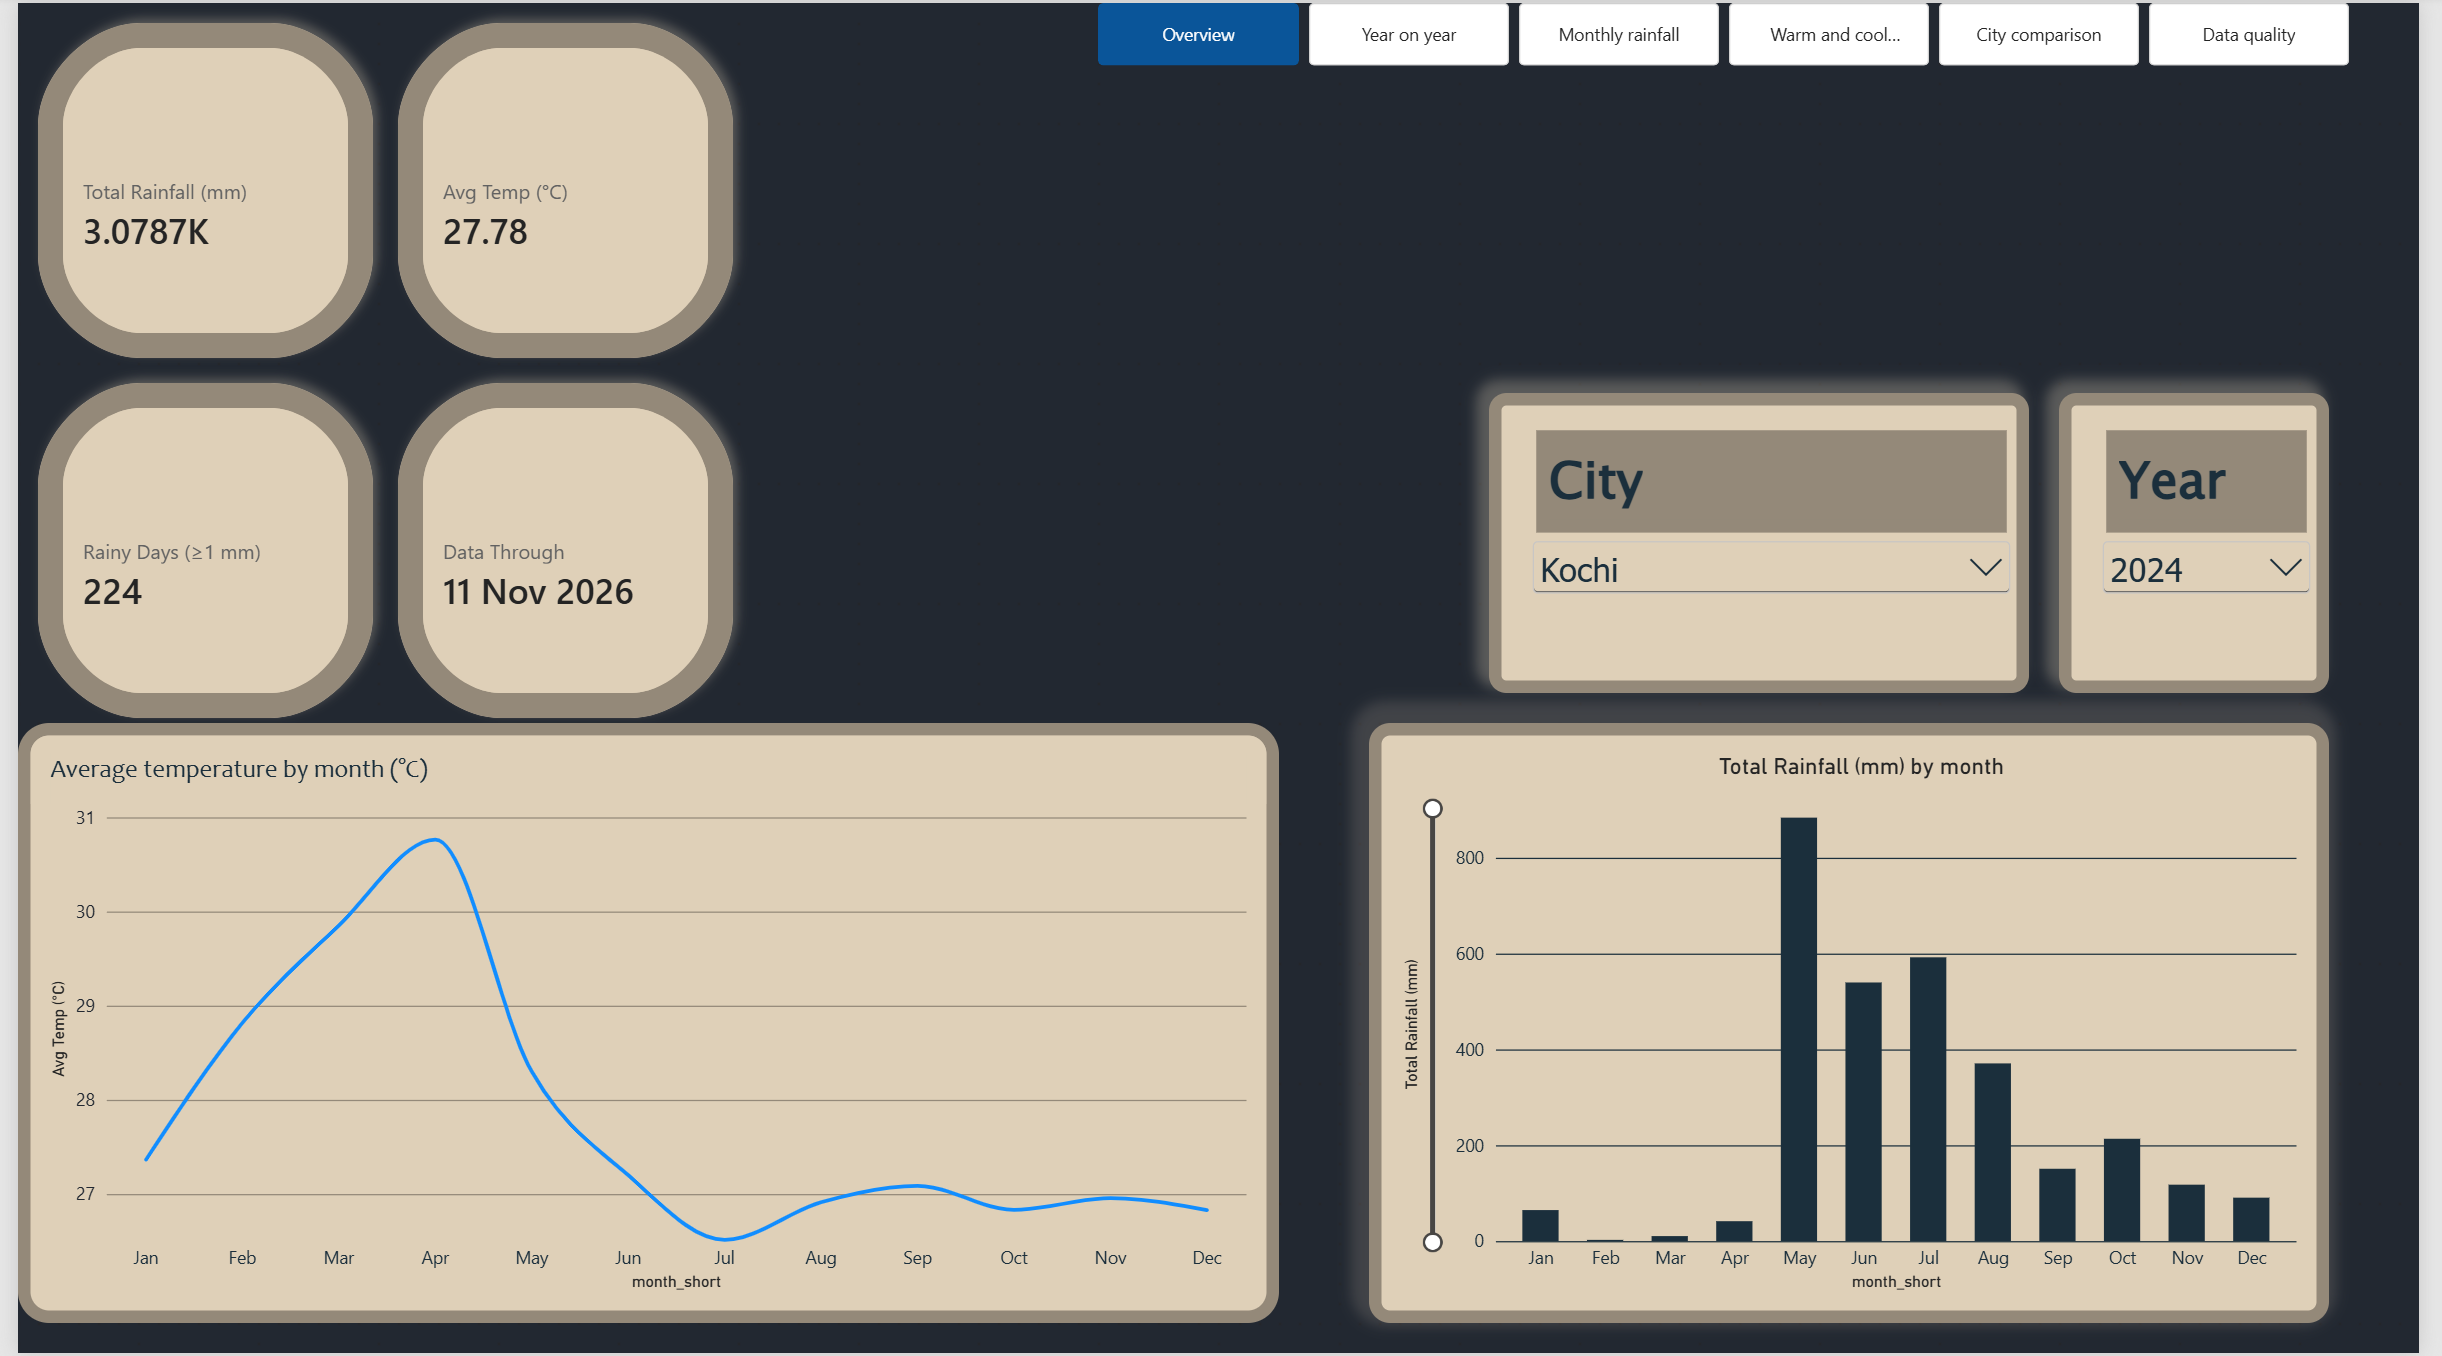

The dashboard page shown, as its layout file describes it:
{"tool":"powerbi","page":{"name":"Overview","canvas":[1920,1080],"ordinal":0},"visuals":[{"type":"slicer","fields":{"Values":["dim_date.year"]},"box":[1632,312,216,240],"z":0},{"type":"slicer","fields":{"Values":["dim_city.city"]},"box":[1176,312,432,240],"z":1000},{"type":"cardVisual","fields":{"Data":["fact_daily_weather.Total Rainfall (mm)"]},"box":[0,0,300,300],"z":2000},{"type":"cardVisual","fields":{"Data":["fact_daily_weather.Avg Temp (°C)"]},"box":[288,0,300,300],"z":3000},{"type":"cardVisual","fields":{"Data":["fact_daily_weather.Rainy Days (≥1 mm)"]},"box":[0,288,300,300],"z":4000},{"type":"cardVisual","fields":{"Data":["fact_daily_weather.Data Through"]},"box":[288,288,300,300],"z":5000},{"type":"lineChart","title":"Average temperature by month (°C)","fields":{"Category":["dim_date.month_short"],"Y":["fact_daily_weather.Avg Temp (°C)"]},"box":[0,576,1008,480],"z":6000},{"type":"clusteredColumnChart","title":"Total Rainfall (mm) by month","fields":{"Category":["dim_date.month_short"],"Y":["fact_daily_weather.Total Rainfall (mm)"]},"box":[1080,576,768,480],"z":7000},{"type":"pageNavigator","box":[864,0,1000,50],"z":8000}]}

Visuals, with their boxes in screenshot pixels (x1, y1, x2, y2), scaled from the page's 1920x1080 canvas onto the 2442x1356 screenshot:
slicer - dim_date.year: detection(2076, 392, 2350, 693)
slicer - dim_city.city: detection(1496, 392, 2045, 693)
cardVisual - fact_daily_weather.Total Rainfall (mm): detection(0, 0, 382, 377)
cardVisual - fact_daily_weather.Avg Temp (°C): detection(366, 0, 748, 377)
cardVisual - fact_daily_weather.Rainy Days (≥1 mm): detection(0, 362, 382, 738)
cardVisual - fact_daily_weather.Data Through: detection(366, 362, 748, 738)
"Average temperature by month (°C)" lineChart: detection(0, 723, 1282, 1326)
"Total Rainfall (mm) by month" clusteredColumnChart: detection(1374, 723, 2350, 1326)
pageNavigator: detection(1099, 0, 2371, 63)
